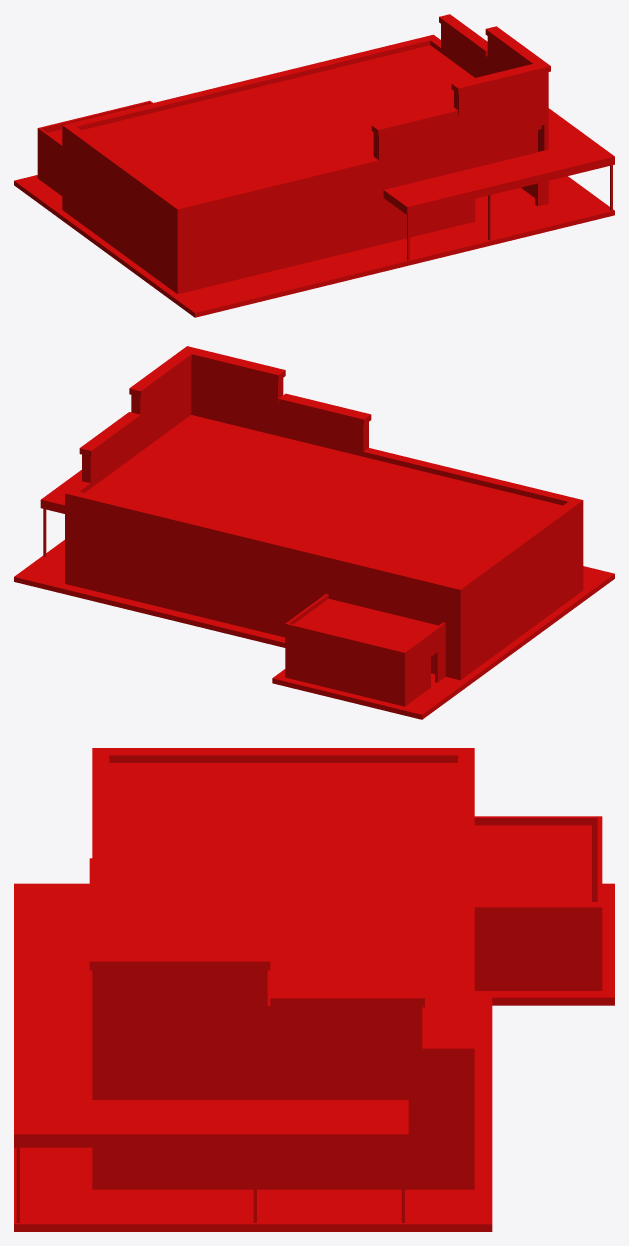
Rendered from SM_Bld_Market_Large_01_Collision.fbx.
3 renders of one model, top to bottom at view 1: azimuth 30°, elevation 25°; view 2: azimuth 150°, elevation 25°; view 3: azimuth 270°, elevation 25°, orthographic. The views are drawn at different scales.
Visible parts, largest first — view 1: SM_Bld_Market_Large_01_Collision; view 2: SM_Bld_Market_Large_01_Collision; view 3: SM_Bld_Market_Large_01_Collision.
Part boxes in pixels (x1,y1,x2,y2): SM_Bld_Market_Large_01_Collision: (14, 14, 614, 317); SM_Bld_Market_Large_01_Collision: (14, 346, 614, 719); SM_Bld_Market_Large_01_Collision: (14, 748, 614, 1231).
Size of the model in its own units: 3395 by 1102 by 2534.
